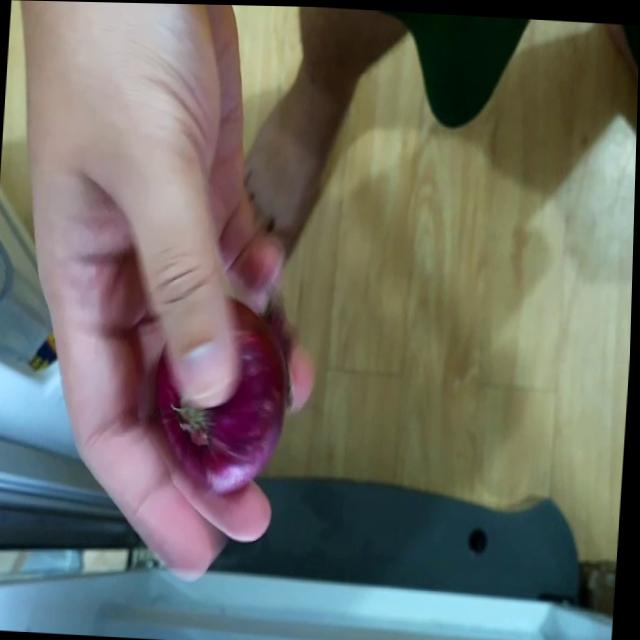onion: (152, 309, 298, 495)
